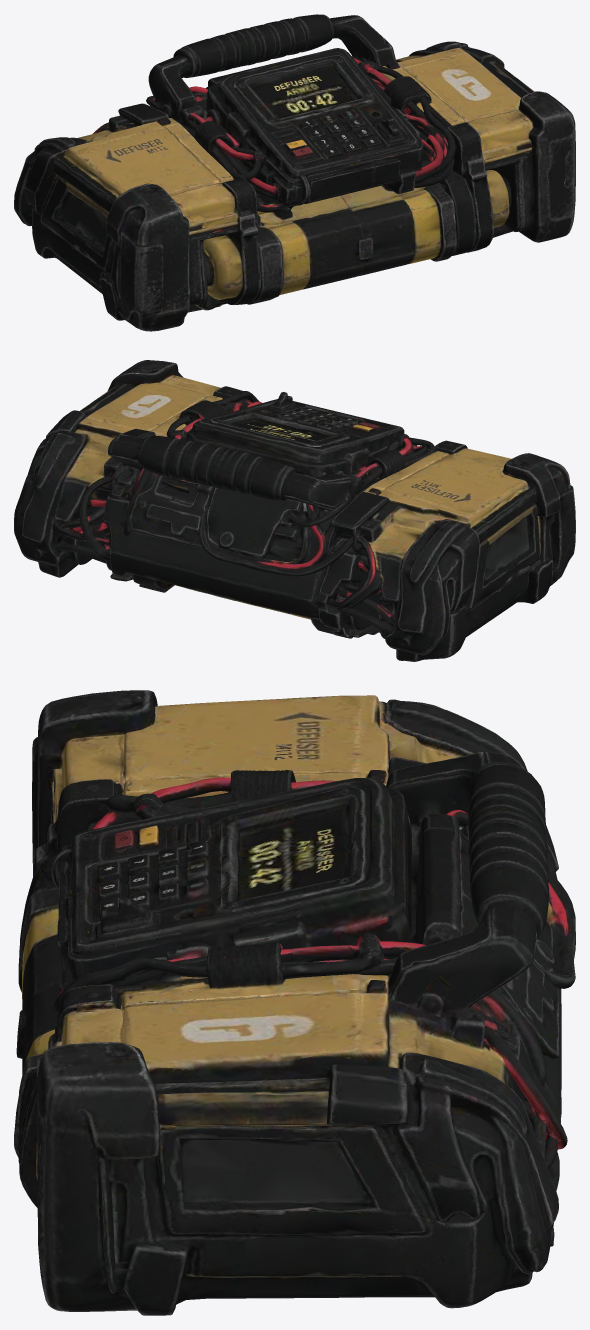
File: defuser.glb
The picture shows the model from 3 angles, top to bottom: view 1: azimuth 30°, elevation 25°; view 2: azimuth 150°, elevation 25°; view 3: azimuth 270°, elevation 25°; orthographic projection. The views are drawn at different scales.
Size of the model in its own units: 1.9 by 0.6672 by 1.09.
Materials: 1 (1 with a texture image).
